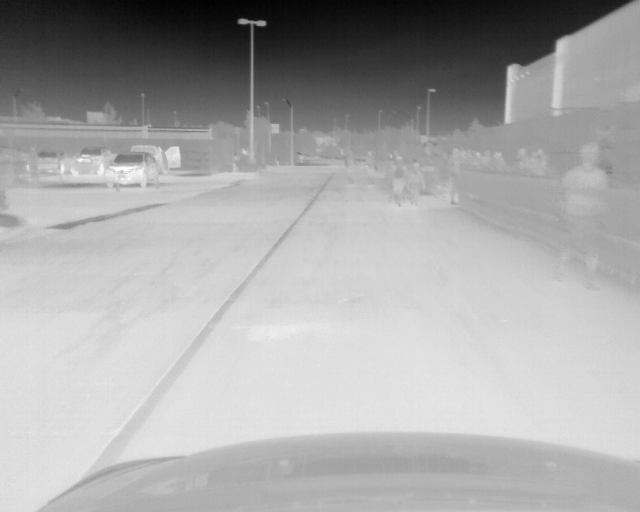car: (104, 151, 159, 188), (131, 143, 181, 174), (69, 146, 112, 176), (34, 148, 67, 175)
people: (556, 141, 610, 290), (389, 154, 408, 206), (447, 149, 463, 206), (408, 162, 428, 205), (342, 145, 356, 187), (363, 149, 377, 187), (514, 148, 531, 173), (493, 149, 504, 170), (481, 148, 489, 166)
